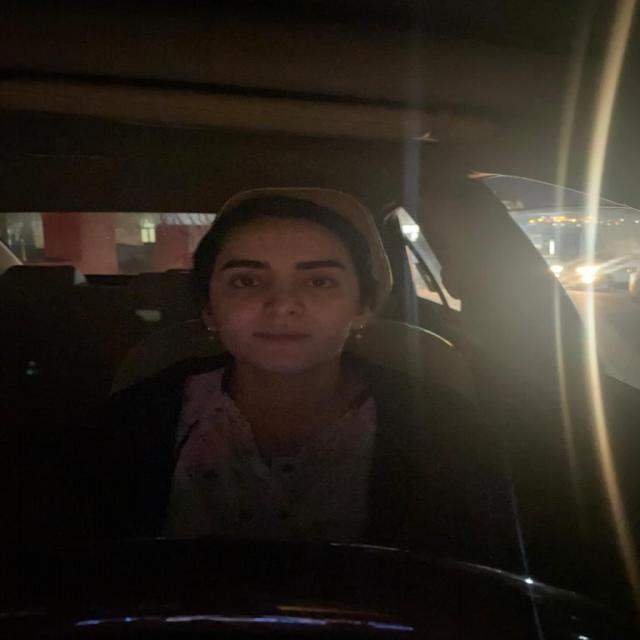person: (190, 181, 390, 380)
